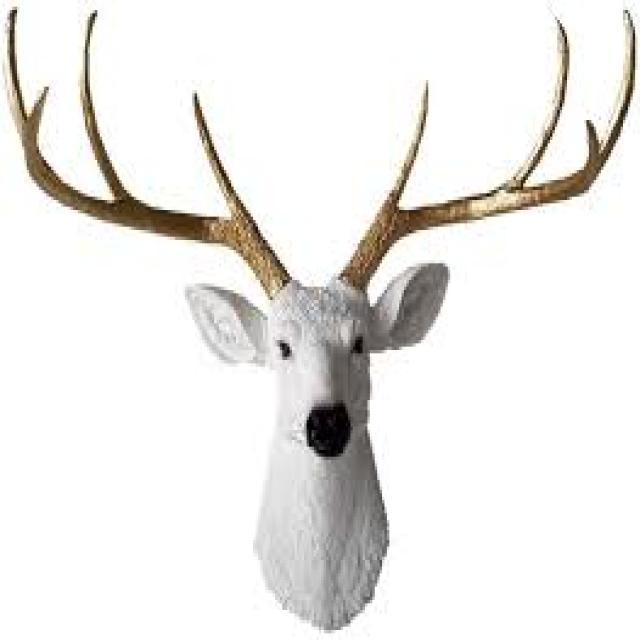L-F: (336, 117, 601, 291)
L-G1: (384, 79, 429, 210)
L-G2: (504, 15, 570, 191)
R-F: (23, 84, 293, 306)
R-G1: (192, 89, 250, 218)
R-G2: (78, 7, 135, 202)
